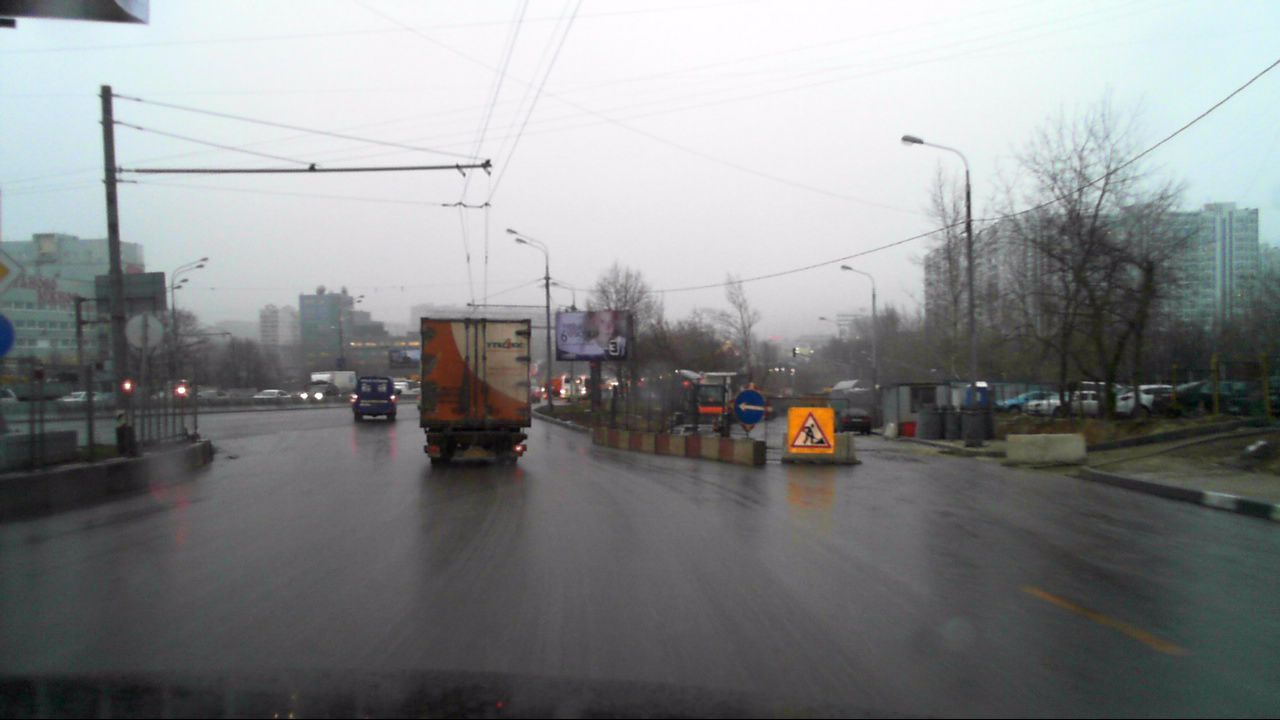Turn Left: (735, 390, 765, 423)
